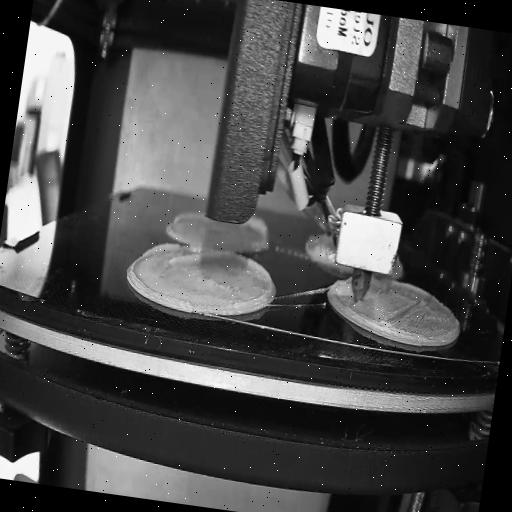over_extrusion: (140, 237, 234, 276), (230, 252, 278, 310), (251, 217, 270, 239)
